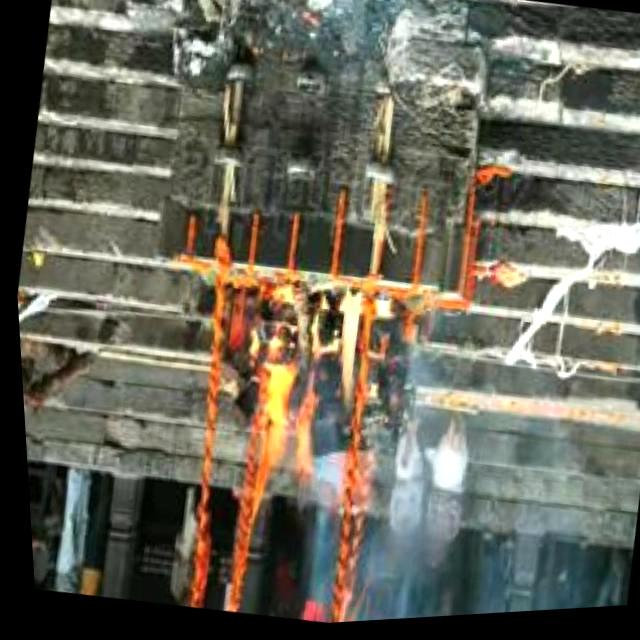fire: (224, 280, 386, 512)
